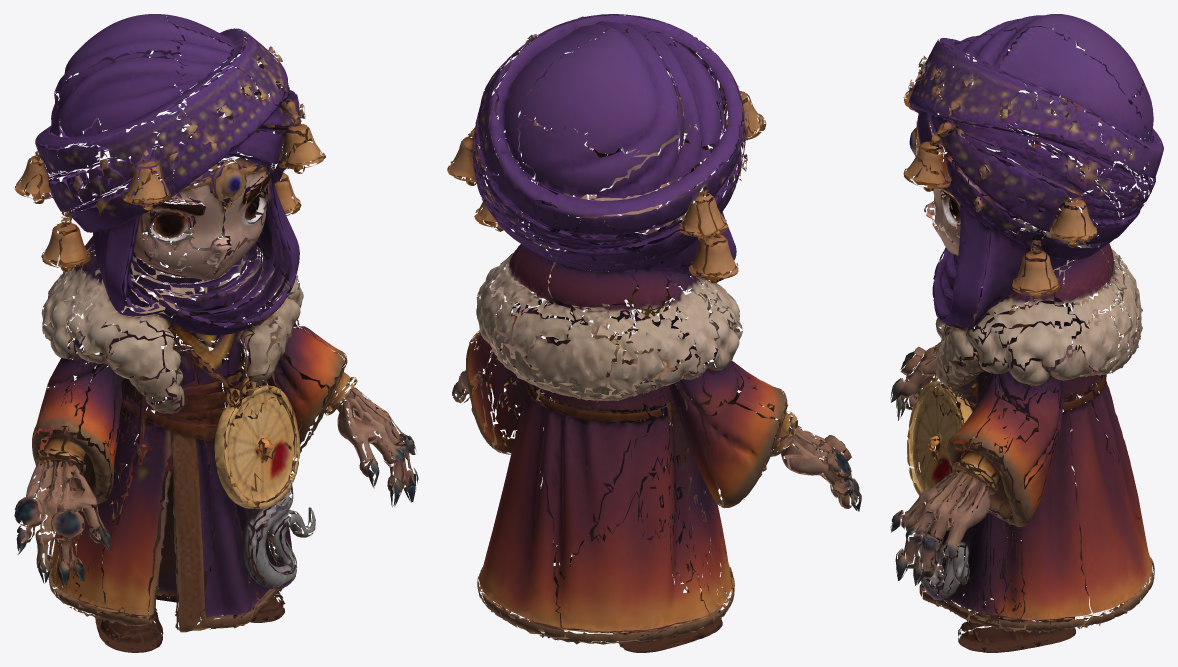
Rendered from jalur-tarot-custom.glb.
The picture shows the model from 3 angles, left to right: view 1: azimuth 30°, elevation 25°; view 2: azimuth 150°, elevation 25°; view 3: azimuth 270°, elevation 25°; orthographic projection.
Parts seen in each view (by area): view 1: texture_pbr_v128; view 2: texture_pbr_v128; view 3: texture_pbr_v128.
Part boxes in pixels (x1=…): texture_pbr_v128: x1=14, y1=14, x2=418, y2=652; texture_pbr_v128: x1=447, y1=14, x2=861, y2=652; texture_pbr_v128: x1=890, y1=14, x2=1163, y2=652.
Size of the model in its own units: 0.8103 by 1.13 by 0.4806.
1 material, 1 textured.
